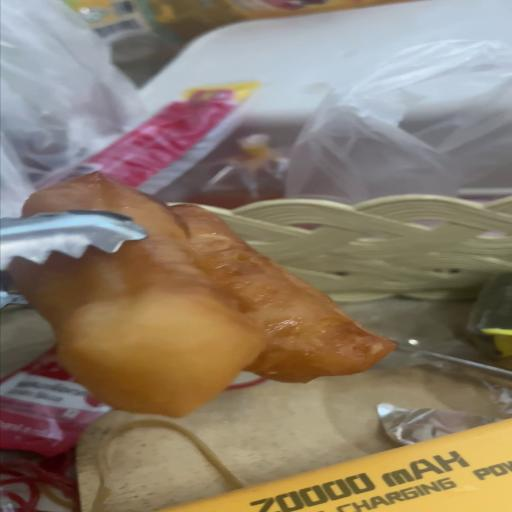street_burnt_defect: (9, 173, 395, 418)
street_burnt_good: (9, 173, 395, 418)
